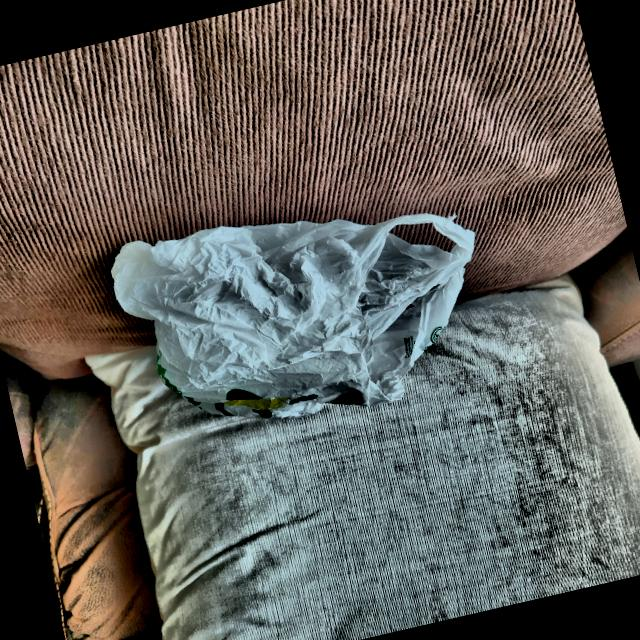plastic bag: (97, 166, 510, 464)
